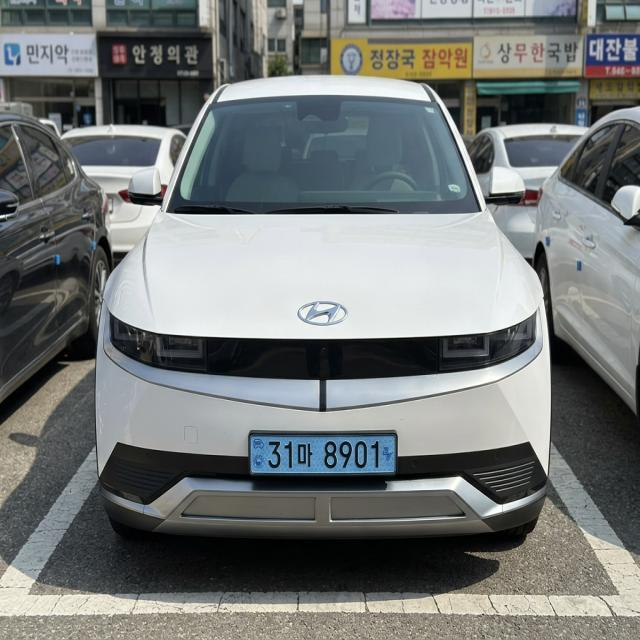car: (233, 419, 421, 493)
carev: (247, 426, 267, 479), (381, 430, 401, 480)
